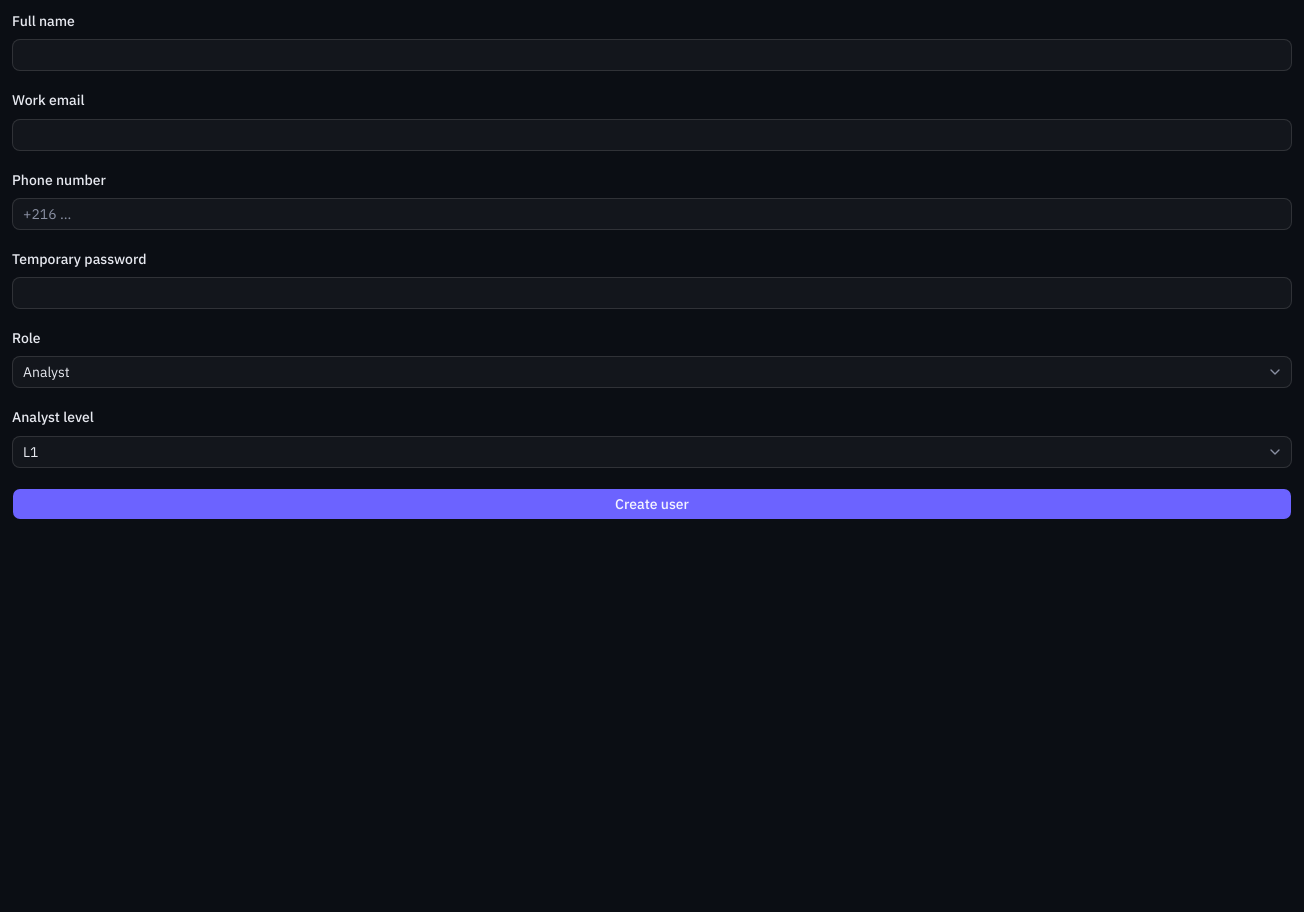
CreateUserForm › shows validation errors instead of submitting when required fields are empty
Click the button "Create user". click: (652, 504)
box: [12,488,1292,520]
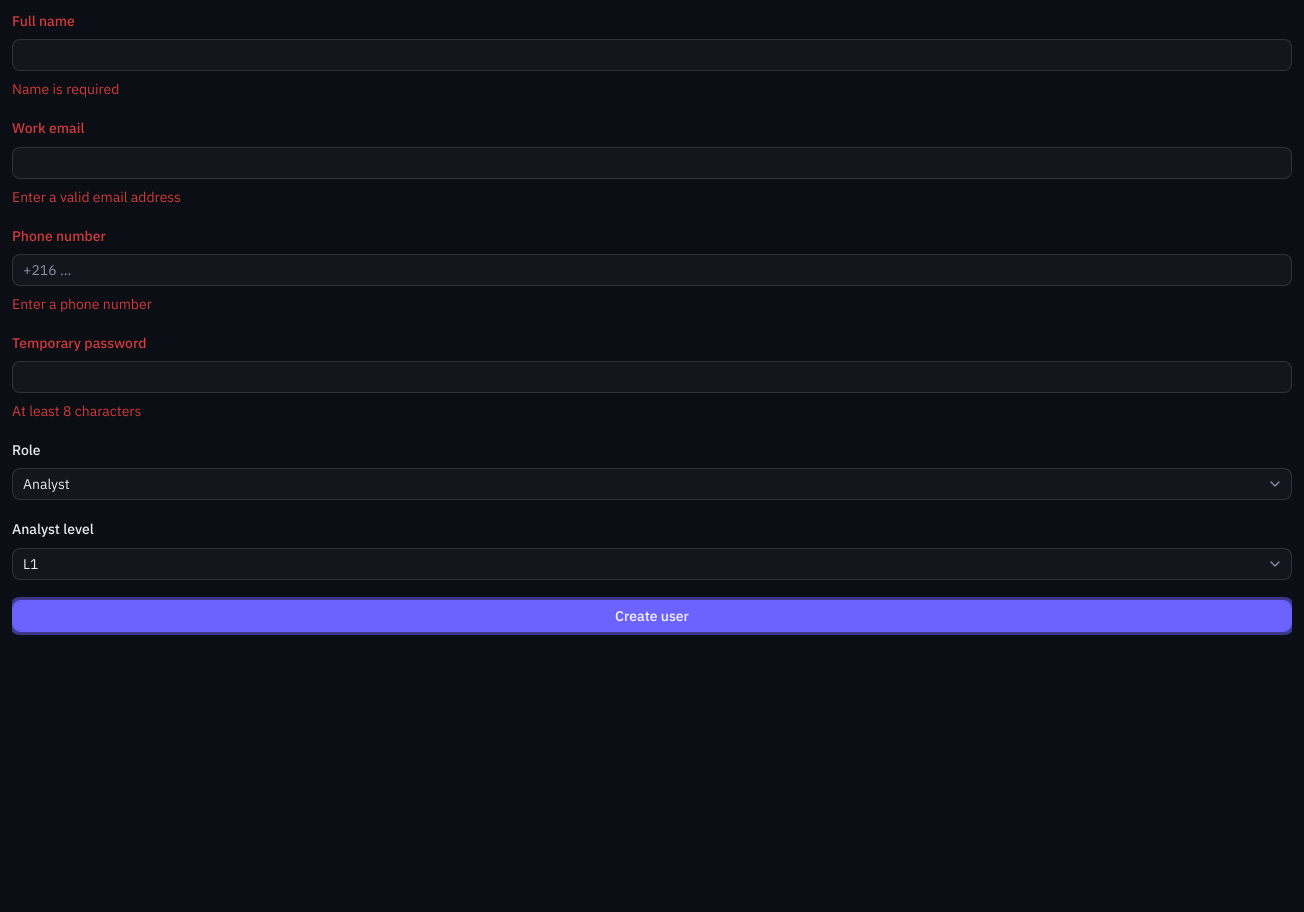
Expected: the text "Name is required" is shown, [12,80,119,98]
